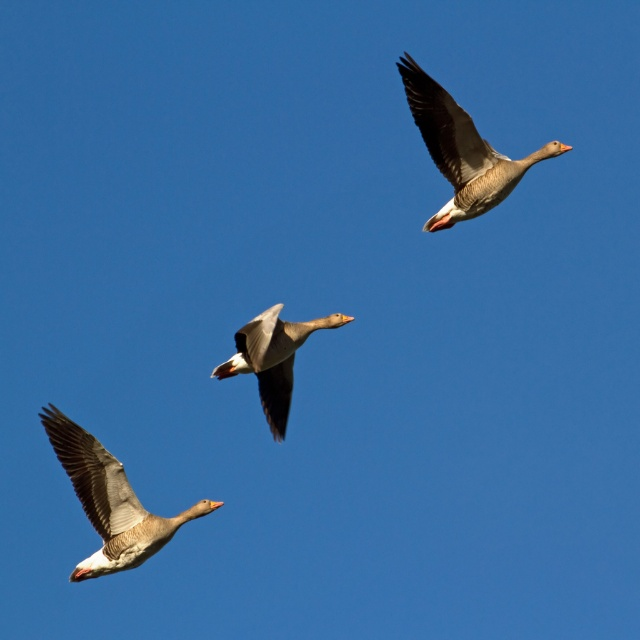Goose: (40, 399, 224, 582), (396, 55, 570, 231), (208, 305, 346, 440)
